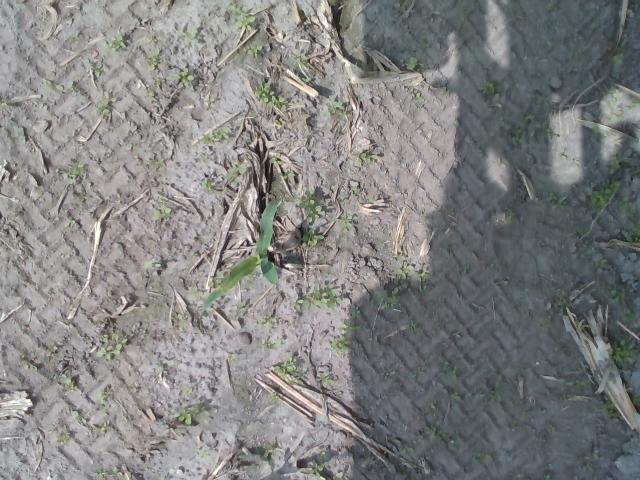Maize: (202, 198, 282, 314)
Weeds: (298, 190, 326, 246), (290, 286, 342, 310), (254, 80, 288, 108), (592, 178, 618, 208), (622, 198, 640, 240), (96, 334, 123, 360), (172, 406, 210, 424), (612, 341, 639, 366), (274, 359, 304, 380), (200, 126, 232, 144), (372, 288, 400, 304), (235, 12, 256, 32), (322, 100, 344, 118), (83, 58, 103, 76), (548, 191, 568, 209), (173, 72, 196, 86), (152, 202, 172, 218), (230, 303, 248, 320), (396, 262, 414, 279), (330, 335, 348, 352), (608, 288, 623, 305), (512, 127, 526, 145), (110, 36, 128, 50), (146, 54, 160, 70), (425, 425, 439, 441), (338, 216, 354, 230), (340, 324, 360, 335), (602, 400, 614, 418), (246, 46, 262, 59), (396, 442, 412, 455), (606, 88, 622, 100), (312, 463, 325, 477), (67, 168, 80, 182), (202, 178, 216, 191), (506, 208, 516, 226), (358, 152, 378, 161), (95, 103, 111, 114), (608, 110, 622, 122), (612, 52, 624, 66), (594, 256, 608, 268), (406, 56, 418, 70), (56, 434, 68, 446), (610, 155, 620, 169), (256, 318, 270, 328), (574, 378, 586, 389), (295, 52, 306, 64), (488, 392, 501, 402), (279, 170, 291, 180), (623, 309, 633, 321), (238, 165, 250, 175), (448, 365, 457, 375), (450, 392, 460, 400), (62, 377, 72, 384), (268, 156, 278, 163), (322, 373, 328, 384), (264, 447, 272, 455), (302, 76, 310, 84)
